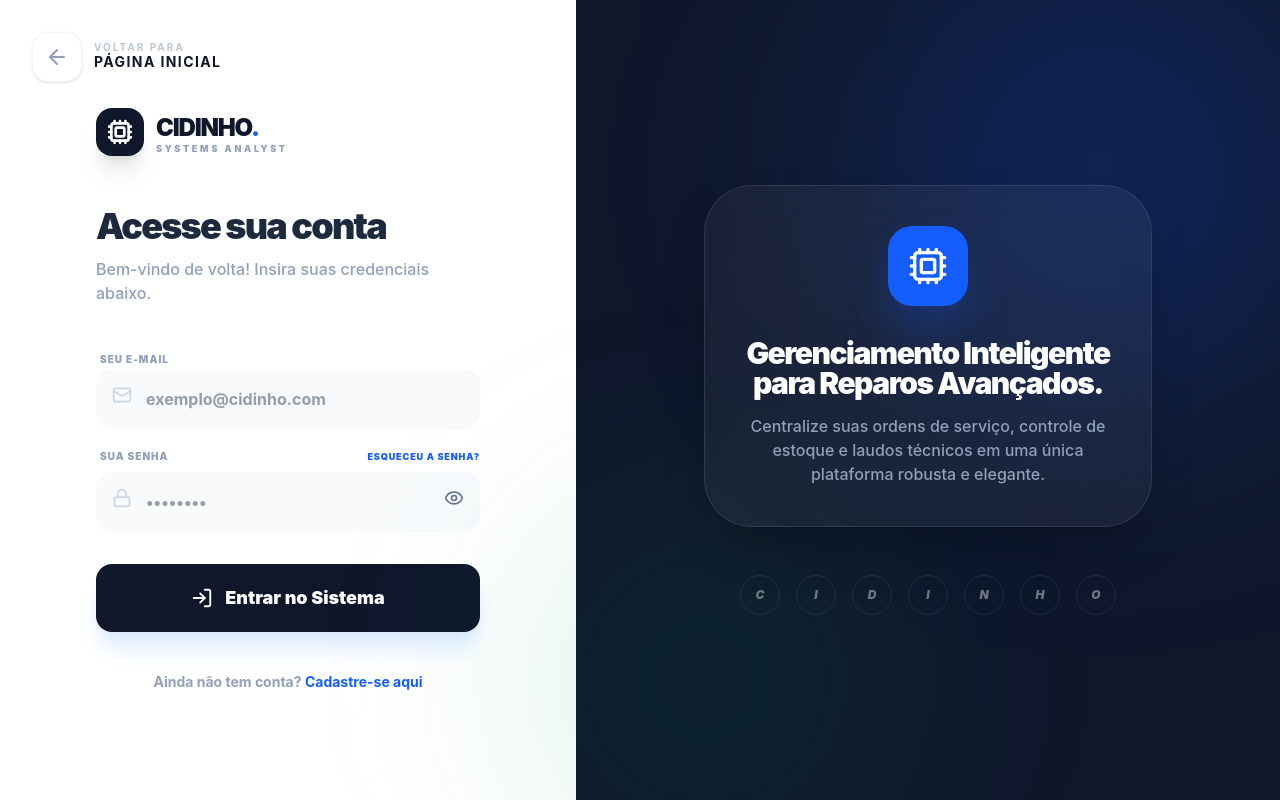
Test case: explica a causa da falha de login
The width and height of the screenshot is (1280, 800).
In the field labelled "Seu E-mail": (288, 399) x1=96 y1=369 x2=480 y2=429, type "cliente@example.test"
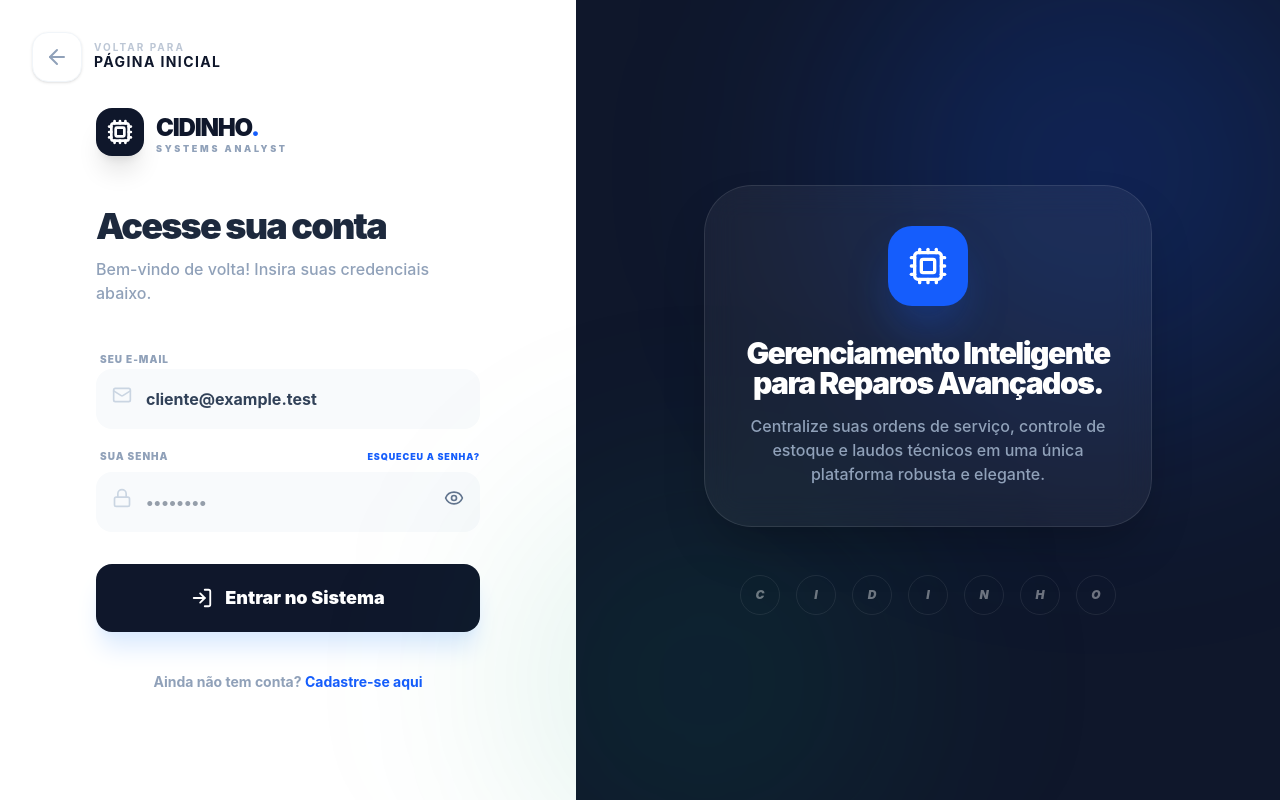
In the password field labelled "Sua Senha": (288, 502) x1=96 y1=472 x2=480 y2=532, type "senha-teste"
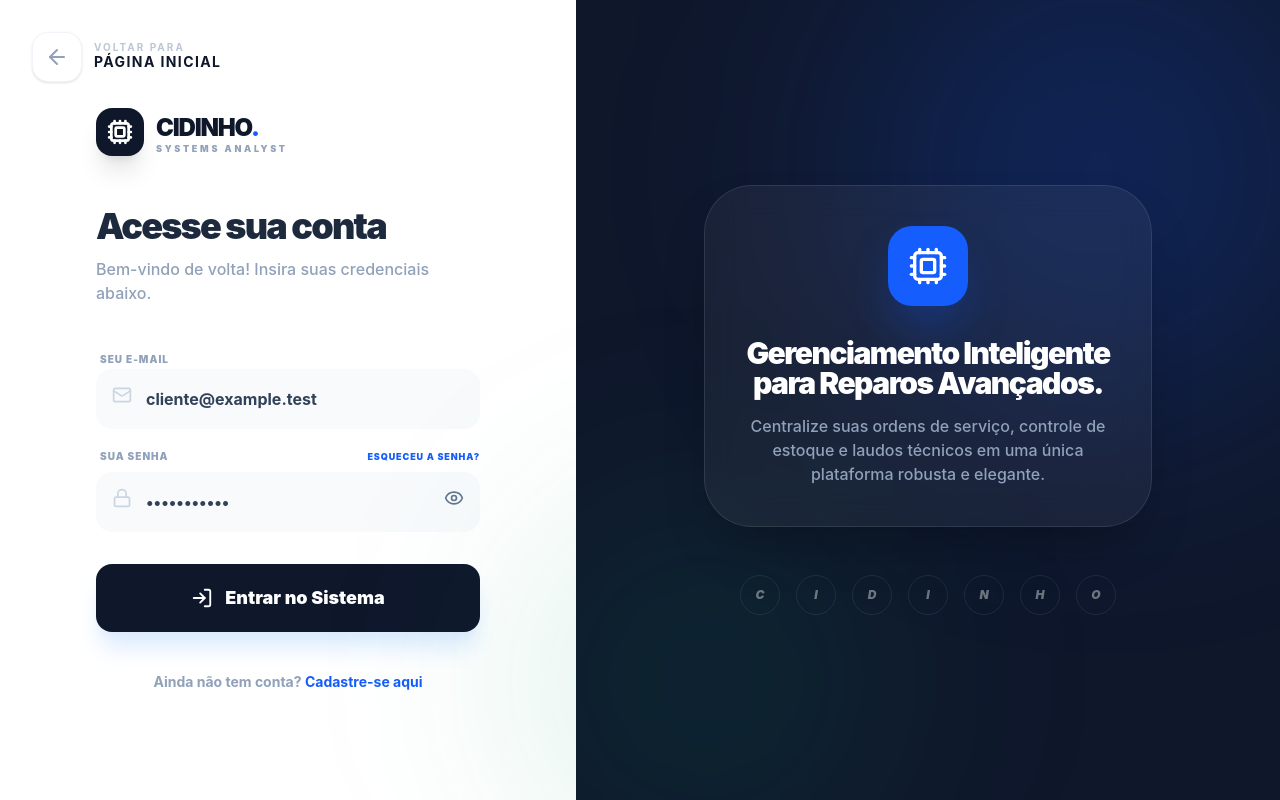
Click the button "Entrar no Sistema": (288, 598) x1=96 y1=564 x2=480 y2=632
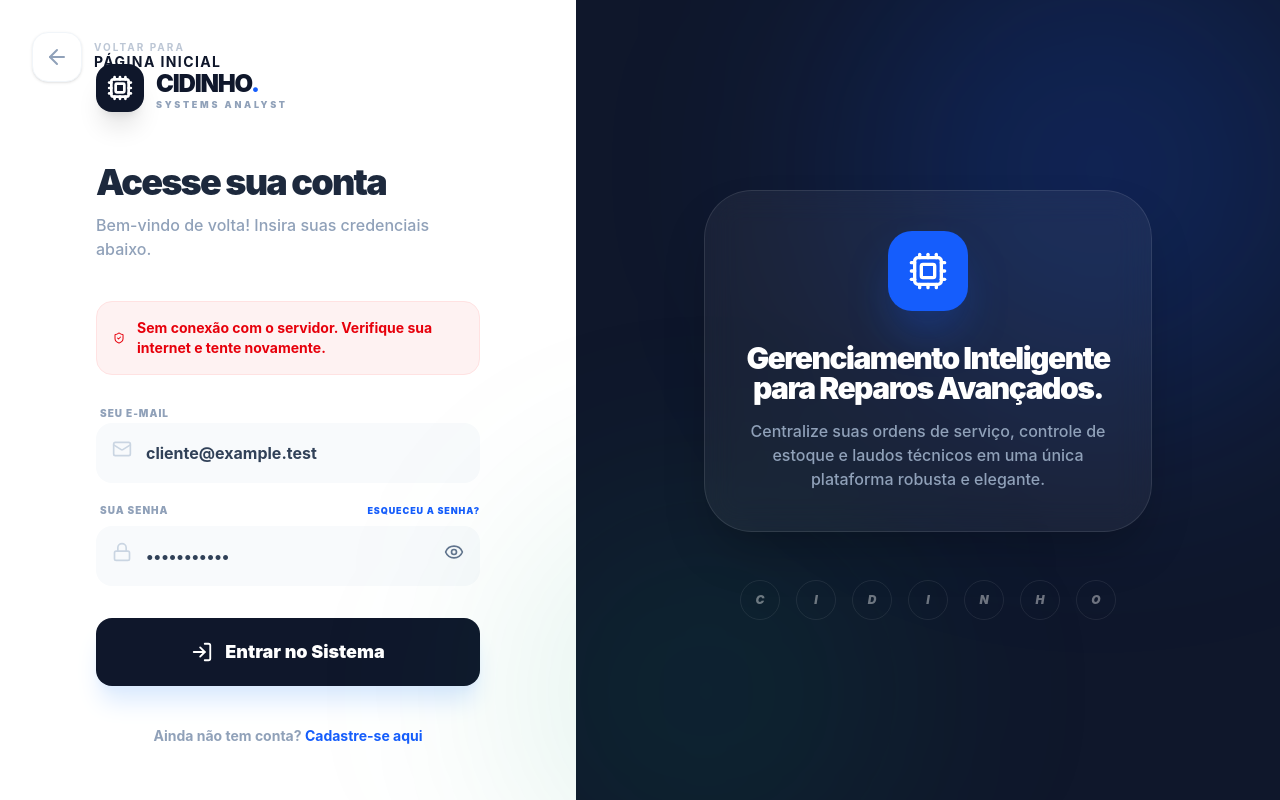
Expected: the button "Entrar no Sistema" is enabled, x1=96 y1=618 x2=480 y2=686
Now the message shows "Sem conexão com o servidor", box x1=137 y1=319 x2=432 y2=356
